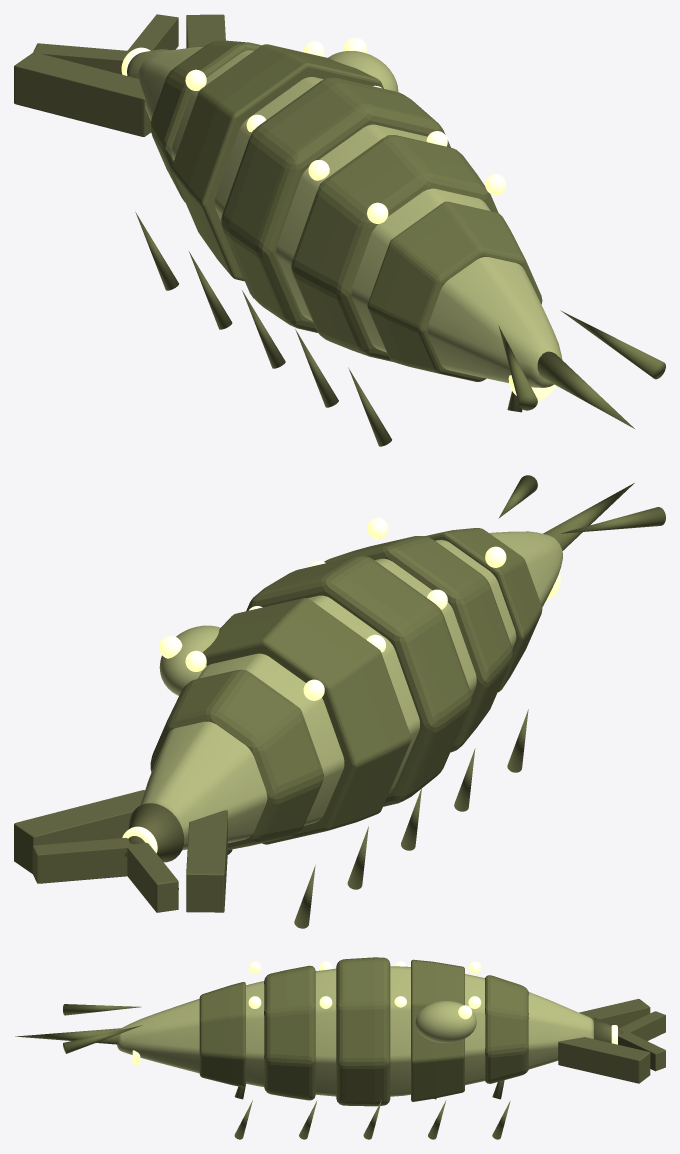
The model's file is krithul.glb.
3 renders of one model, top to bottom at view 1: azimuth 30°, elevation 25°; view 2: azimuth 150°, elevation 25°; view 3: azimuth 270°, elevation 25°, orthographic. The views are drawn at different scales.
Visible parts, largest first — view 1: hull, hull.003, hull.004, hull.005, hull.002, Cube, hull.001, Cone.011, Cube.001, Cube.003, Cone.013, Cube.002 (+7 smaller); view 2: hull, hull.002, hull.003, hull.001, hull.004, Cube.002, hull.005, Cube, Cube.003, Cube.001, Cone, Sphere.008 (+2 smaller); view 3: hull, hull.003, hull.004, hull.002, hull.005, hull.001, Cube.002, Sphere.008, Cube, Cube.001, Cube.003, Cone.011 (+3 smaller).
Boxes of the visible parts, x1,y1,x2,y2 form: hull: (136,47,562,387); hull.003: (221,77,450,333); hull.004: (291,135,498,361); hull.005: (367,201,542,381); hull.002: (172,44,383,281); Cube: (14,52,151,136); hull.001: (150,40,261,202); Cone.011: (537,351,634,428); Cube.001: (33,43,130,74); Cube.003: (126,14,178,54); Cone.013: (560,310,665,379); Cube.002: (186,14,225,48); hull: (140,531,562,850); hull.002: (202,598,411,844); hull.003: (246,556,471,806); hull.001: (150,669,323,849); hull.004: (324,536,512,752); Cube.002: (14,790,144,873); hull.005: (425,528,542,692); Cube: (186,810,227,912); Cube.003: (32,838,130,883); Cube.001: (125,842,178,912); Cone: (124,803,184,862); Sphere.008: (159,625,220,695); hull: (117,966,593,1096); hull.003: (336,957,390,1106); hull.004: (264,965,315,1100); hull.002: (411,959,464,1101); hull.005: (199,982,245,1087); hull.001: (485,975,528,1083); Cube.002: (558,1037,650,1083); Sphere.008: (415,1001,476,1042); Cube: (579,999,650,1028); Cube.001: (618,1011,665,1040); Cube.003: (618,1032,665,1071); Cone.011: (15,1028,121,1044).
Bounding box in the file's own units: 1.19 × 1.36 × 5.06.
